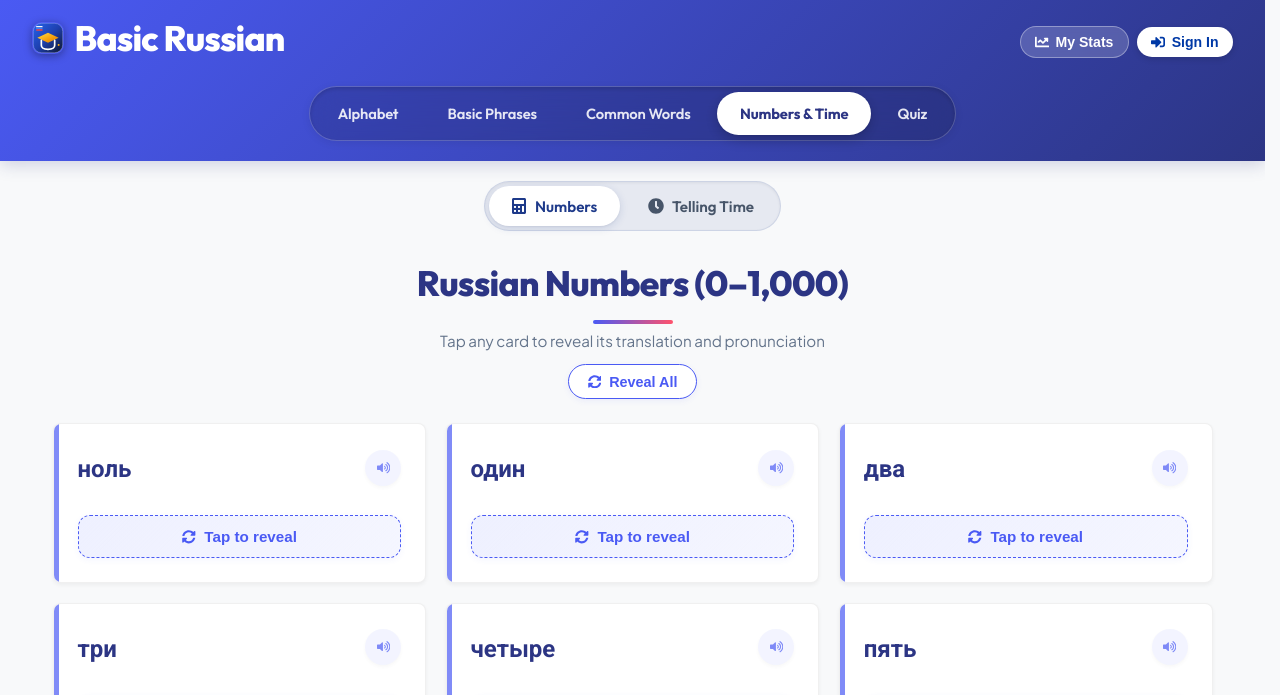
Test: App › renders Numbers & Time and switches tabs between numbers and time
The width and height of the screenshot is (1280, 695).
Expected: the heading "Russian Numbers (0–1,000)" is shown, [417,255,848,324]
Click the tab "Telling Time". click: (701, 206)
box: [626,186,776,226]
(page scrolled)
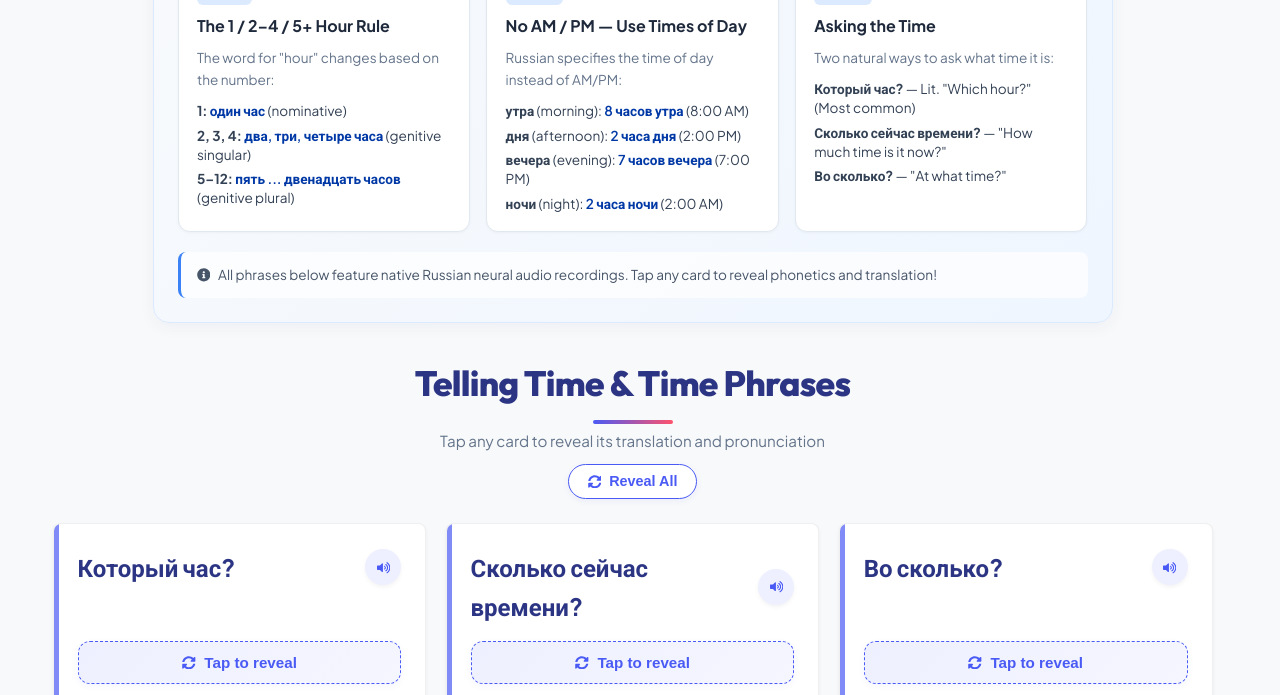
Expected: the heading "Telling Time & Time Phrases" is shown, [415,355,850,424]
